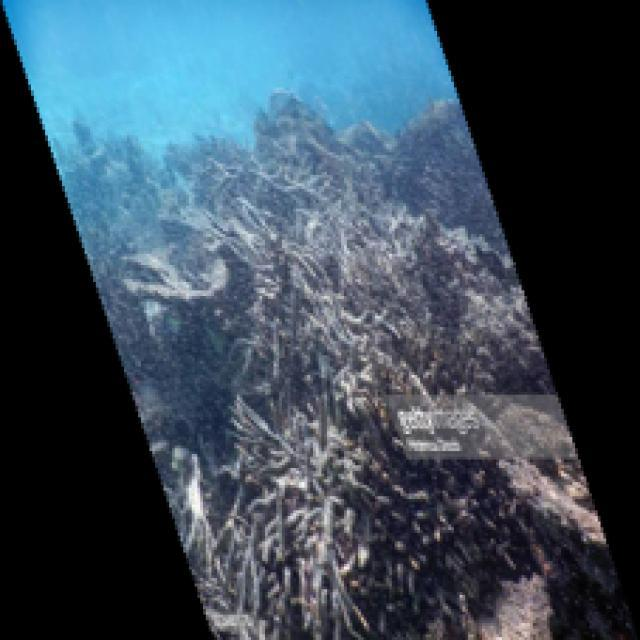Dead Coral: (165, 184, 428, 393), (226, 461, 486, 638)
